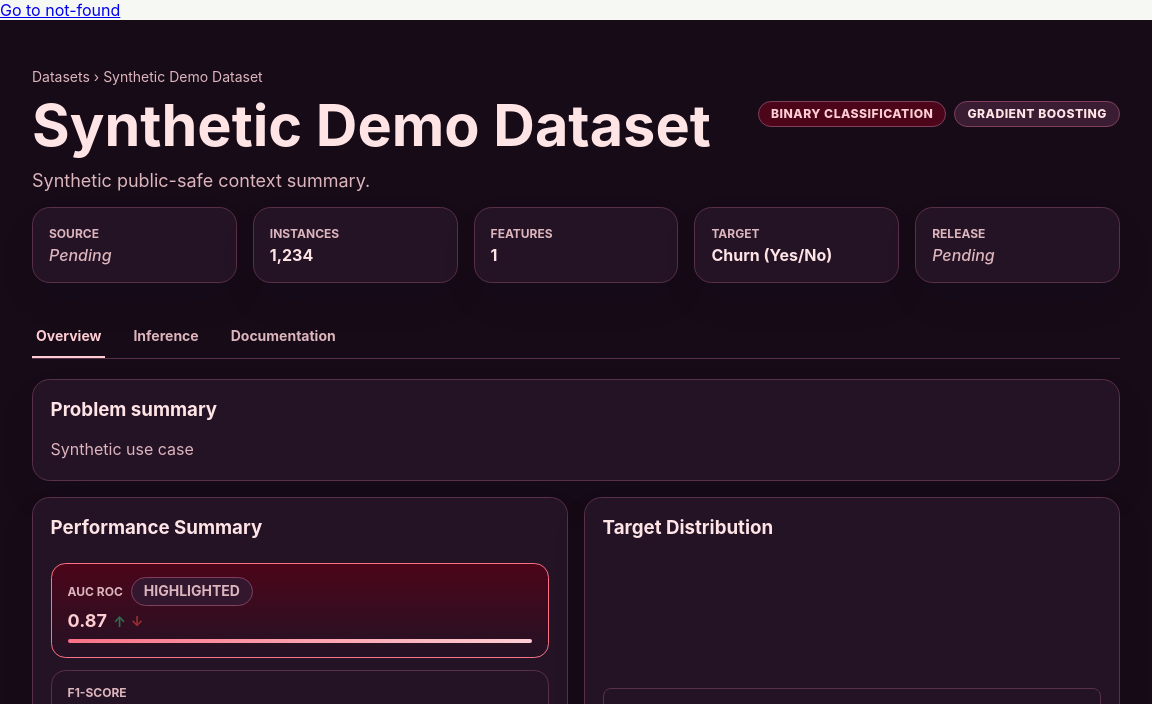
Test: DatasetPage synthetic-slug rendering › does not carry a previously-viewed dataset's theme into a stale-then-not-found navigation
Expected: the heading "Synthetic Demo Dataset" is shown, [32,97,711,155]
Click the link "Go to not-found" at (60, 10), box [0,0,120,20]
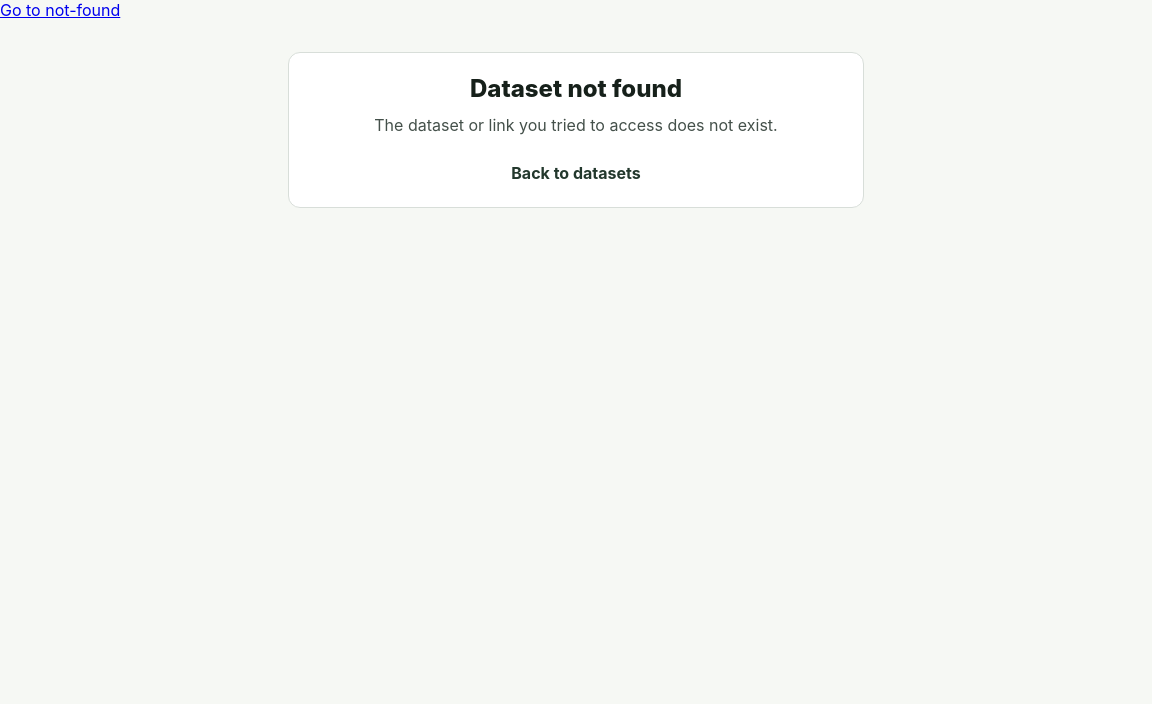
Now the heading "Dataset not found" is shown, box [470,77,682,101]
